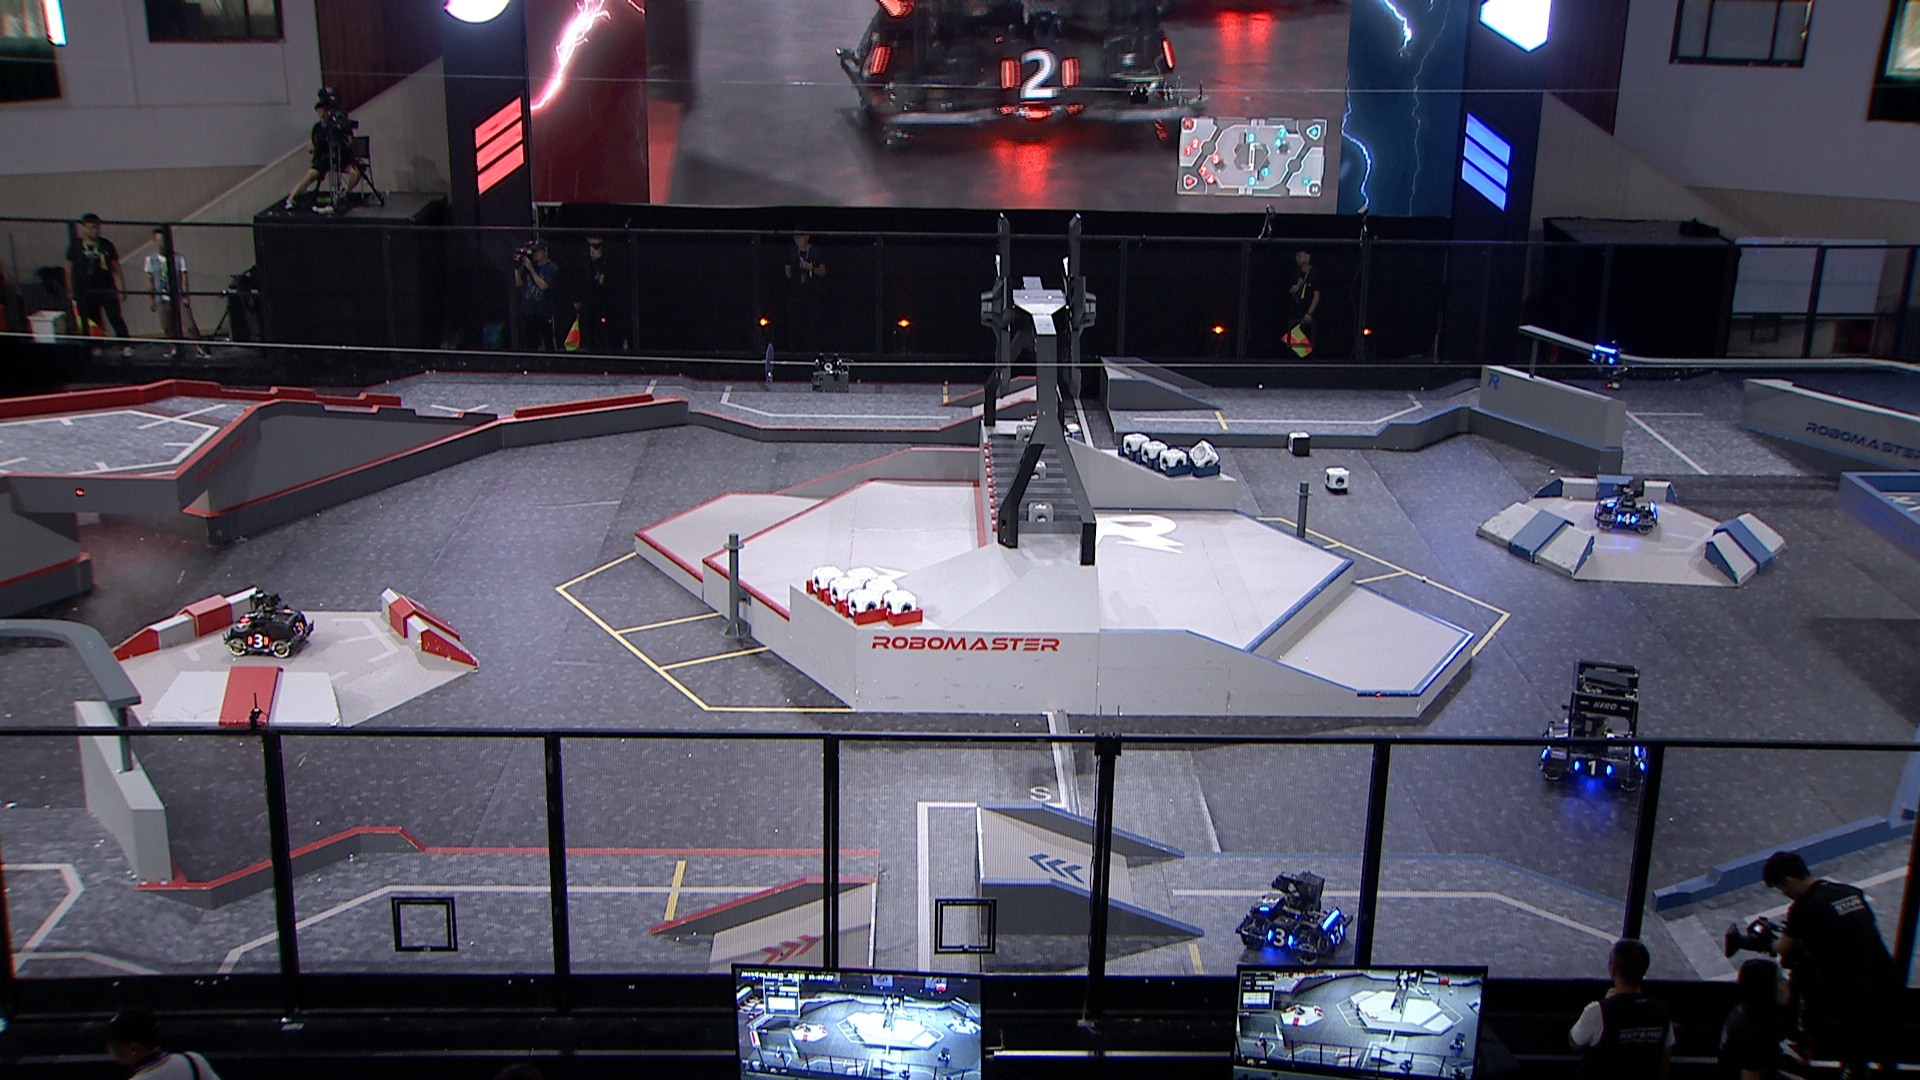armor: (1575, 757, 1613, 779), (1265, 926, 1295, 949), (1258, 894, 1280, 915), (247, 633, 272, 651), (1329, 922, 1346, 945), (1590, 351, 1615, 367), (1614, 510, 1638, 526), (291, 618, 306, 638), (239, 611, 257, 624)
car: (1536, 659, 1652, 796), (1232, 868, 1356, 971), (223, 589, 315, 661), (1594, 479, 1660, 535)
watcher: (1588, 342, 1631, 392)
